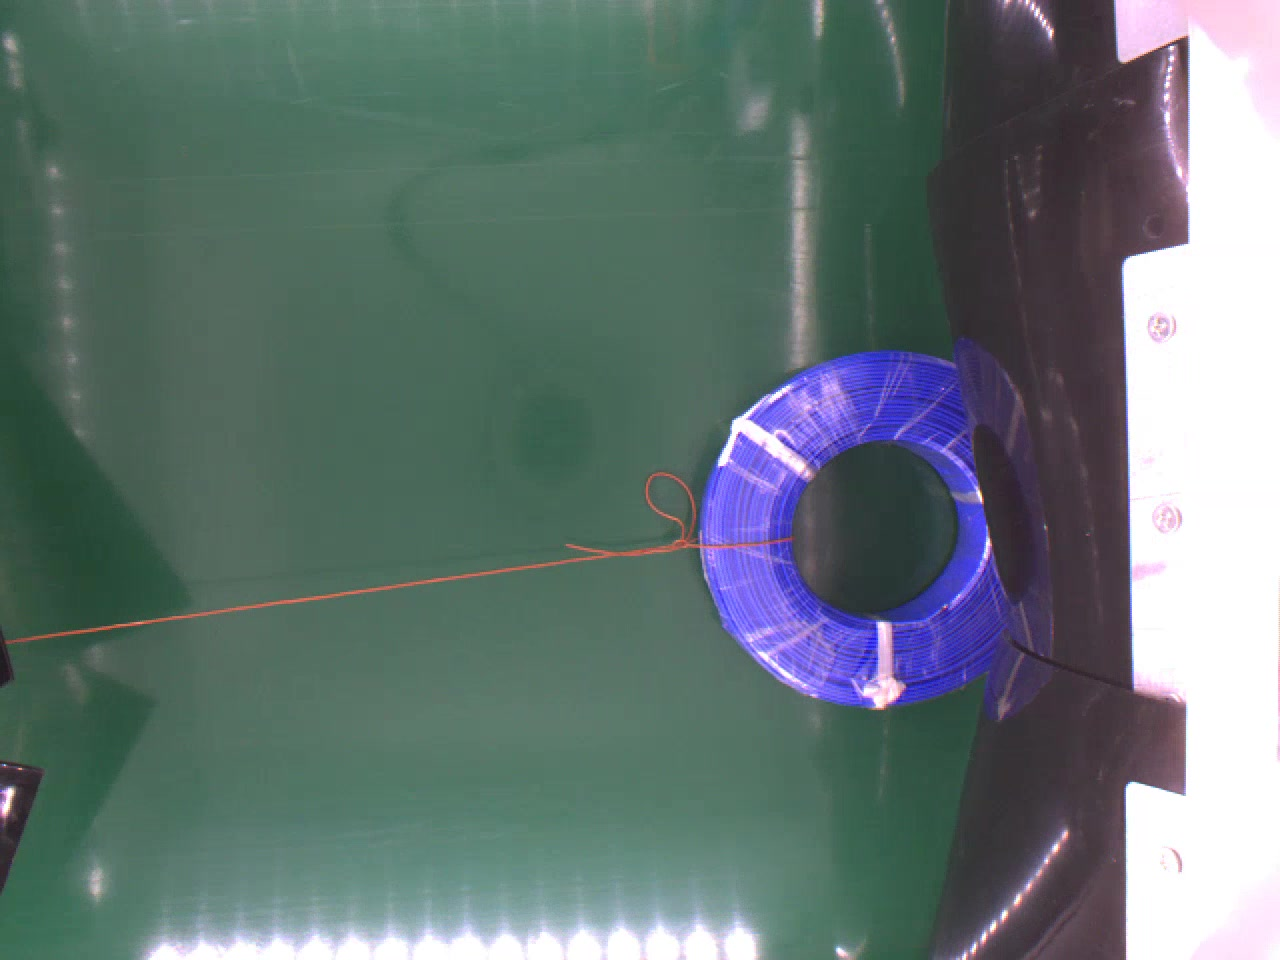blue: (699, 351, 1014, 704)
